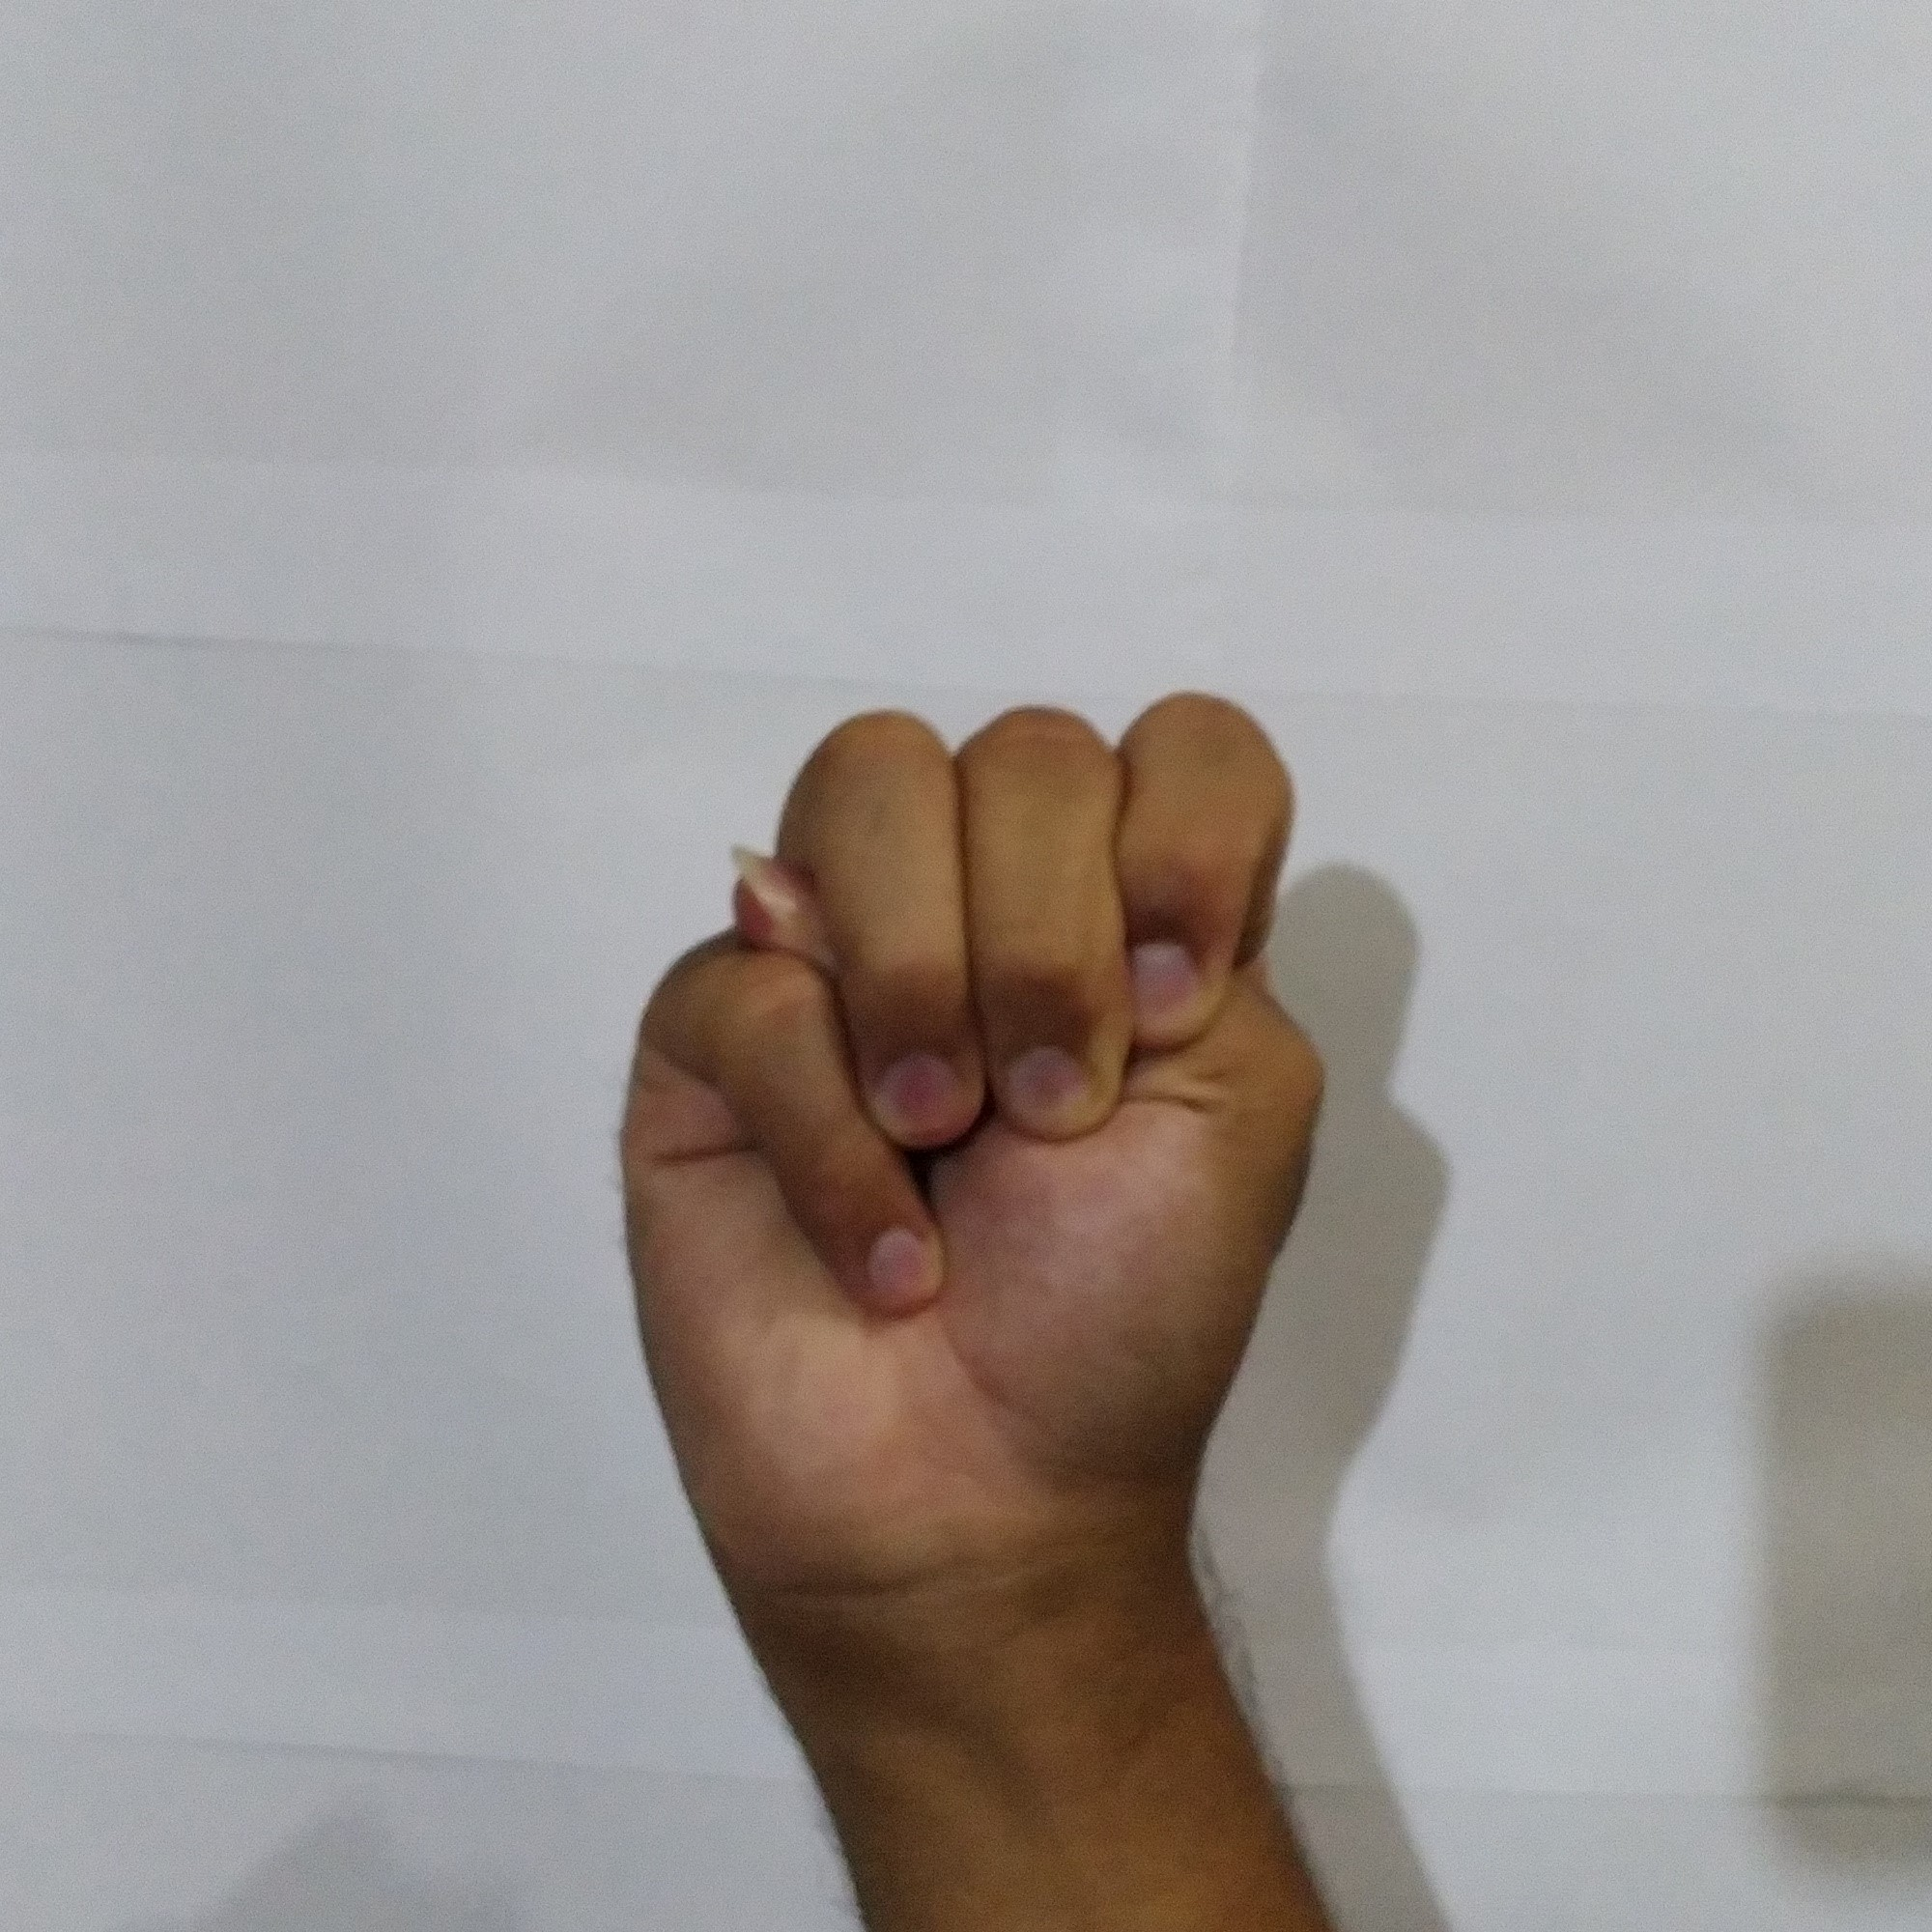M: (584, 667, 1353, 1582)
